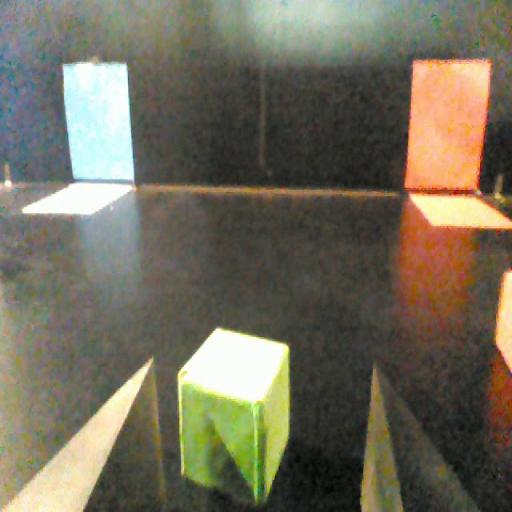cube: (170, 317, 308, 509), (493, 265, 512, 382)
